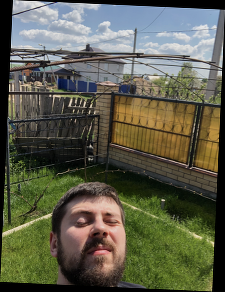without_mask: (64, 204, 126, 286)
